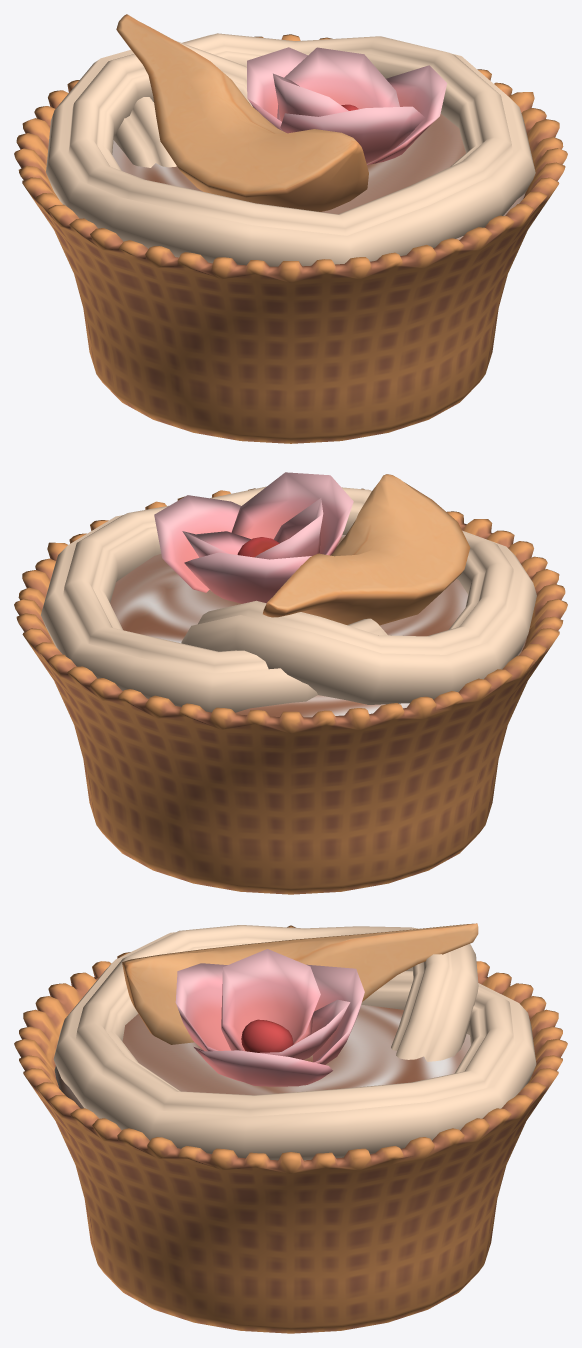
File: dessert_pear_5.fbx
3 views of the same model, one above another, from view 1: azimuth 30°, elevation 25°; view 2: azimuth 150°, elevation 25°; view 3: azimuth 270°, elevation 25° (orthographic).
Parts seen in each view (by area): view 1: chocolate_&_pear_desert; view 2: chocolate_&_pear_desert; view 3: chocolate_&_pear_desert.
Part boxes in pixels (box(x1,y1,x2,y2)): chocolate_&_pear_desert: box(14, 14, 567, 443); chocolate_&_pear_desert: box(14, 472, 567, 894); chocolate_&_pear_desert: box(14, 923, 567, 1333).
Bounding box in the file's own units: 14.4 × 8.41 × 14.36.
